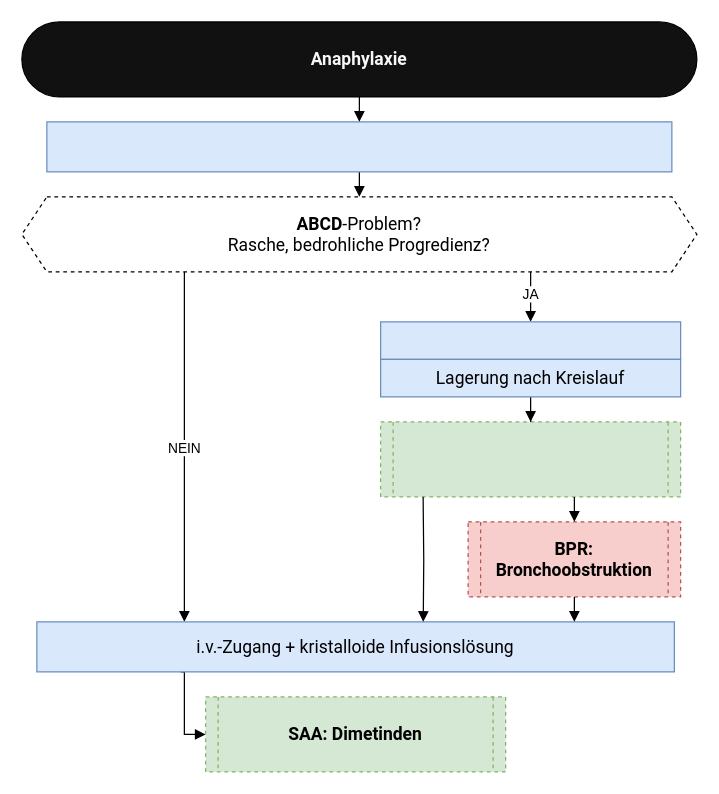
The diagram is 719 pixels wide and 794 high, and some of its shapes have lost their labels. The centre of each missing label's shape, as x and y in pixels:
Allergenexposition beenden, wenn möglich: the point at 359,146
O2-Gabe: the point at 530,340
SAA: Adrenalin: the point at 530,459
